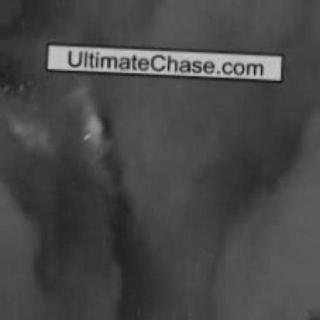Smoke: (25, 7, 302, 299)
